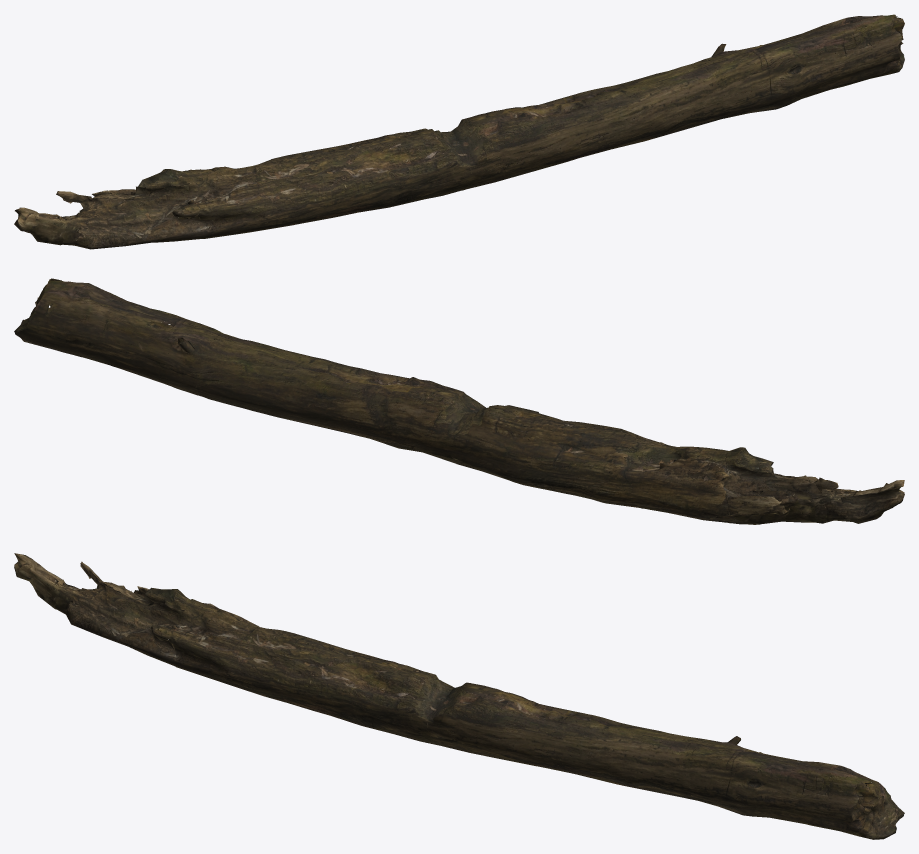
Rendered from dead_tree_trunk.glb.
3 renders of one model, top to bottom at view 1: azimuth 30°, elevation 25°; view 2: azimuth 150°, elevation 25°; view 3: azimuth 330°, elevation 25°, orthographic.
Parts seen in each view (by area): view 1: dead_tree_trunk; view 2: dead_tree_trunk; view 3: dead_tree_trunk.
Boxes of the visible parts, x1,y1,x2,y2 form: dead_tree_trunk: (14,14,904,249); dead_tree_trunk: (14,278,904,524); dead_tree_trunk: (14,553,904,839).
Bounding box in the file's own units: 3.05 × 0.2898 × 0.275.
1 material, 1 textured.
